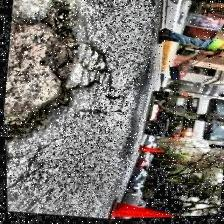pothole: (1, 0, 100, 150)
